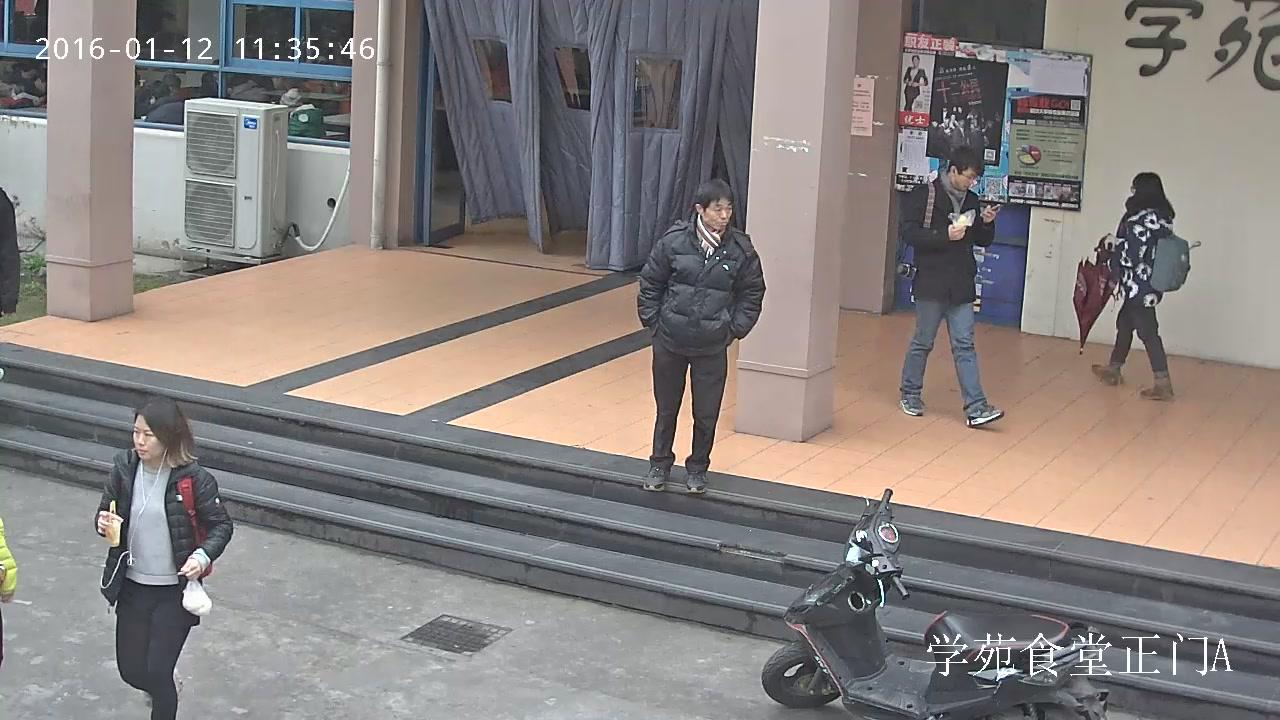person: (95, 395, 233, 720), (637, 179, 766, 493), (898, 145, 1004, 427), (1071, 171, 1191, 399), (1091, 171, 1190, 399), (278, 87, 328, 141), (903, 55, 928, 113)
